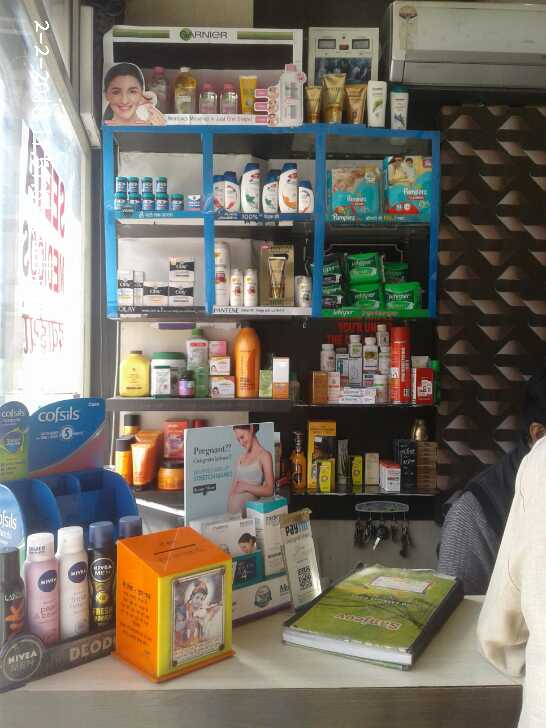vicks: (114, 170, 204, 212)
